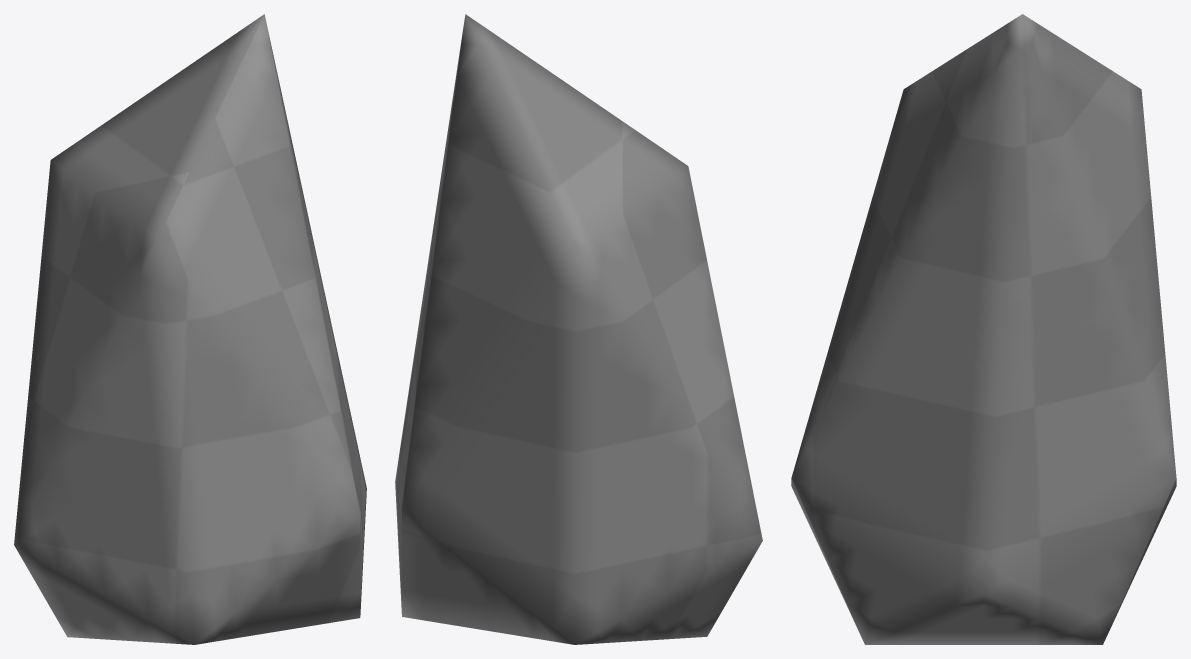
The model's file is rock2_1162.FBX.
The picture shows the model from 3 angles, left to right: view 1: azimuth 30°, elevation 25°; view 2: azimuth 150°, elevation 25°; view 3: azimuth 270°, elevation 25°; orthographic projection. The views are drawn at different scales.
Parts seen in each view (by area): view 1: rock2; view 2: rock2; view 3: rock2.
Part boxes in pixels (box(x1,y1,x2,y2)): rock2: box(14, 14, 366, 644); rock2: box(395, 14, 762, 644); rock2: box(791, 14, 1176, 644).
Size of the model in its own units: 121 by 104 by 183.
